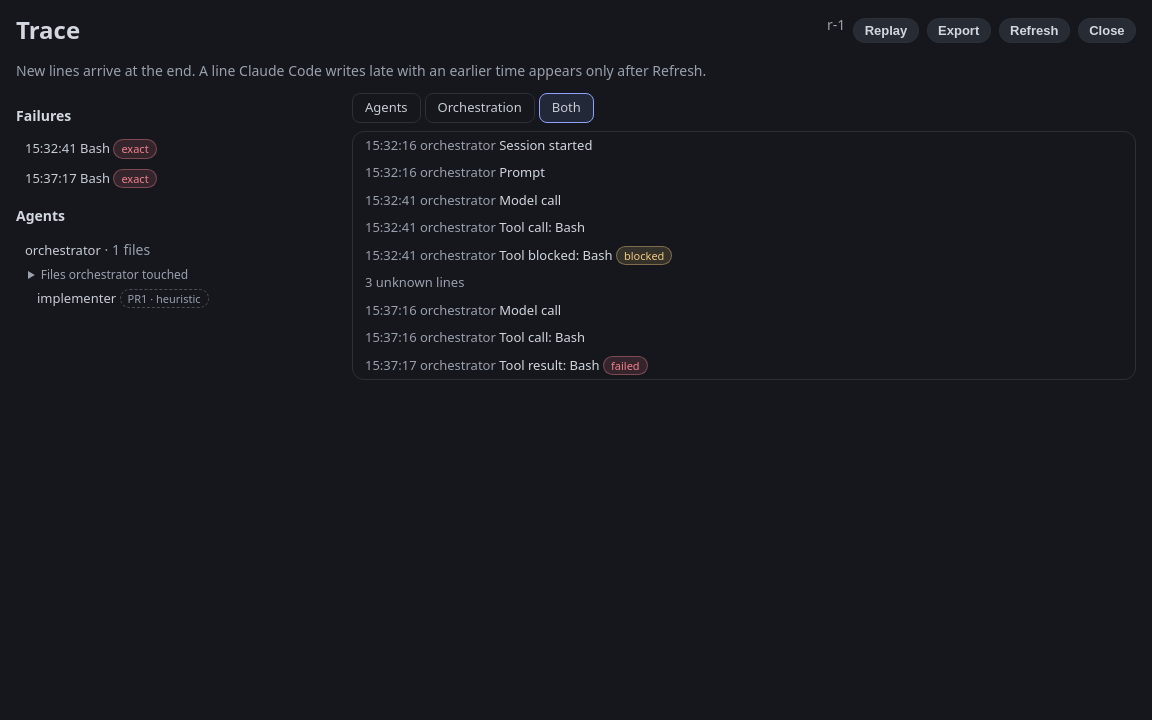
TracePanel replay › steps through every Event with the keys and the Event list follows; Esc leaves
This screenshot has width=1152, height=720.
Expected: the list named "Events" is shown, left=365, top=136, right=672, bottom=375
Click the button "Replay". click: (886,30)
box: left=853, top=18, right=919, bottom=43
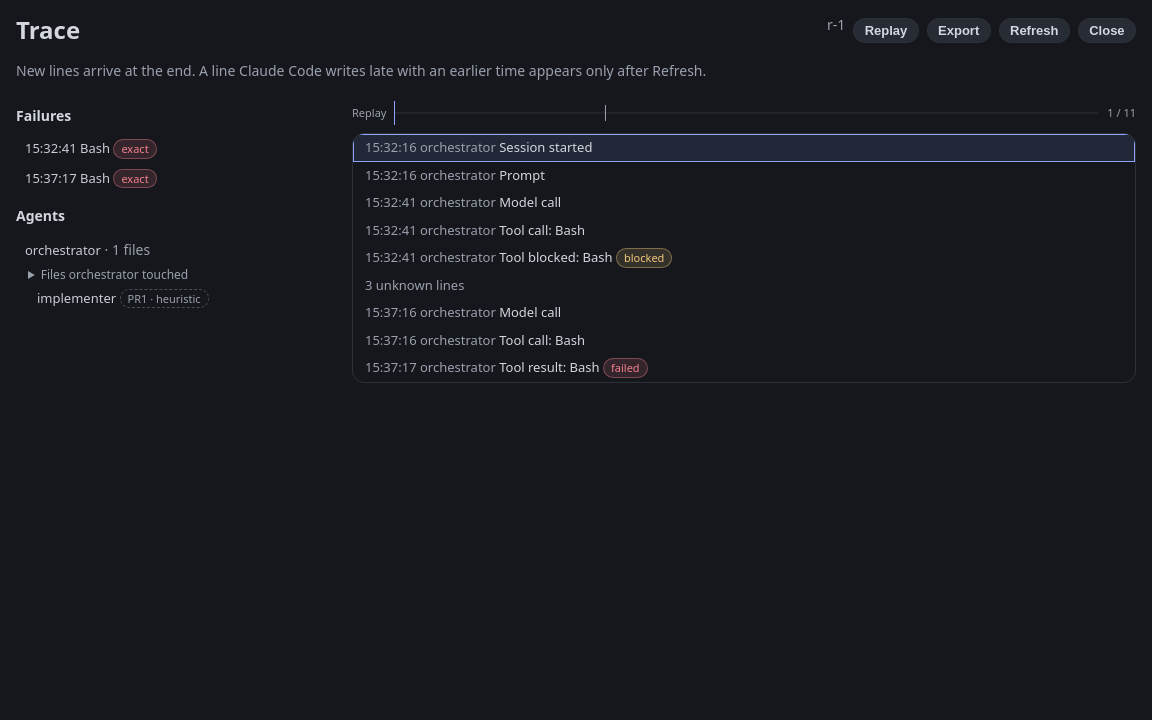
Press ArrowRight in the slider, box left=394, top=101, right=1099, bottom=125
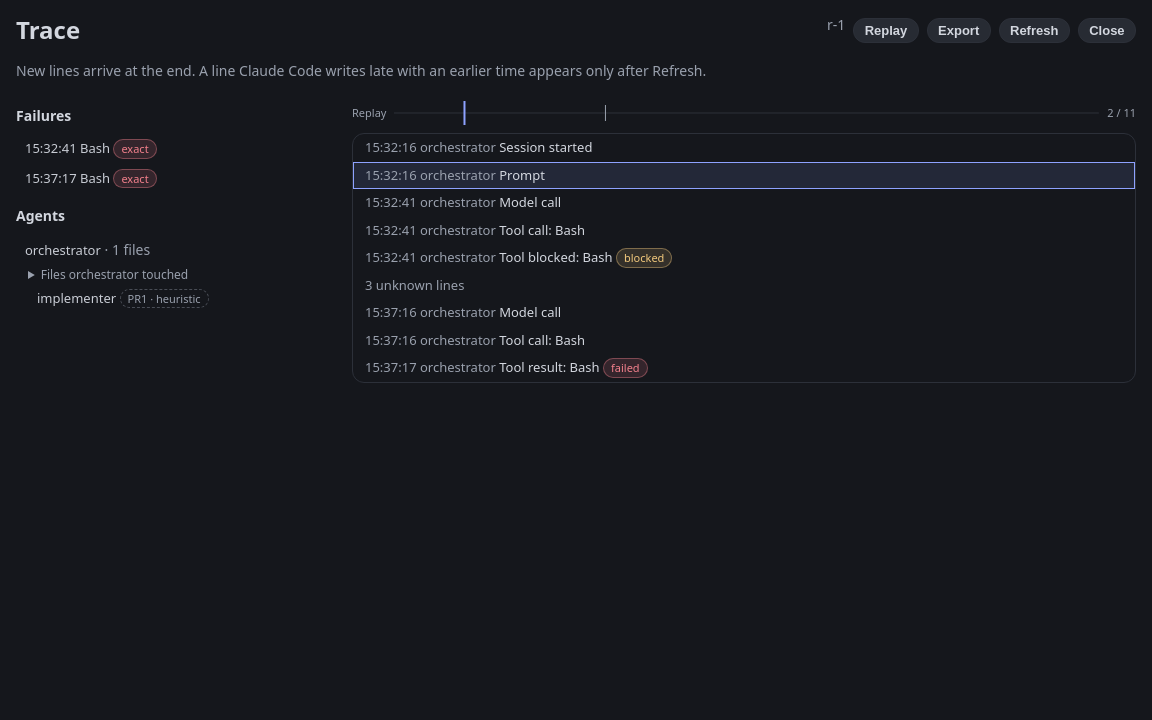
Now the slider has attribute aria-valuenow="1"
Press End in the slider, box left=394, top=101, right=1099, bottom=125
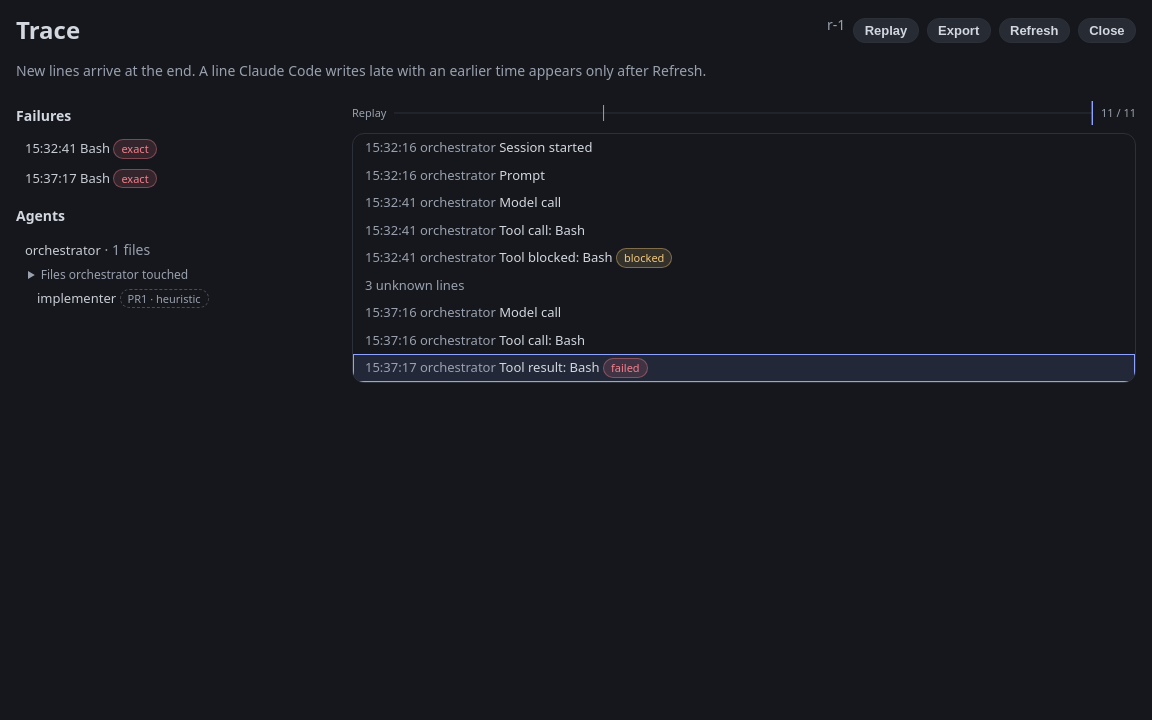
Now the slider has attribute aria-valuenow="10"
Press ArrowRight in the slider, box left=394, top=101, right=1093, bottom=125
Now the slider has attribute aria-valuenow="10"
Press Home in the slider, box left=394, top=101, right=1093, bottom=125
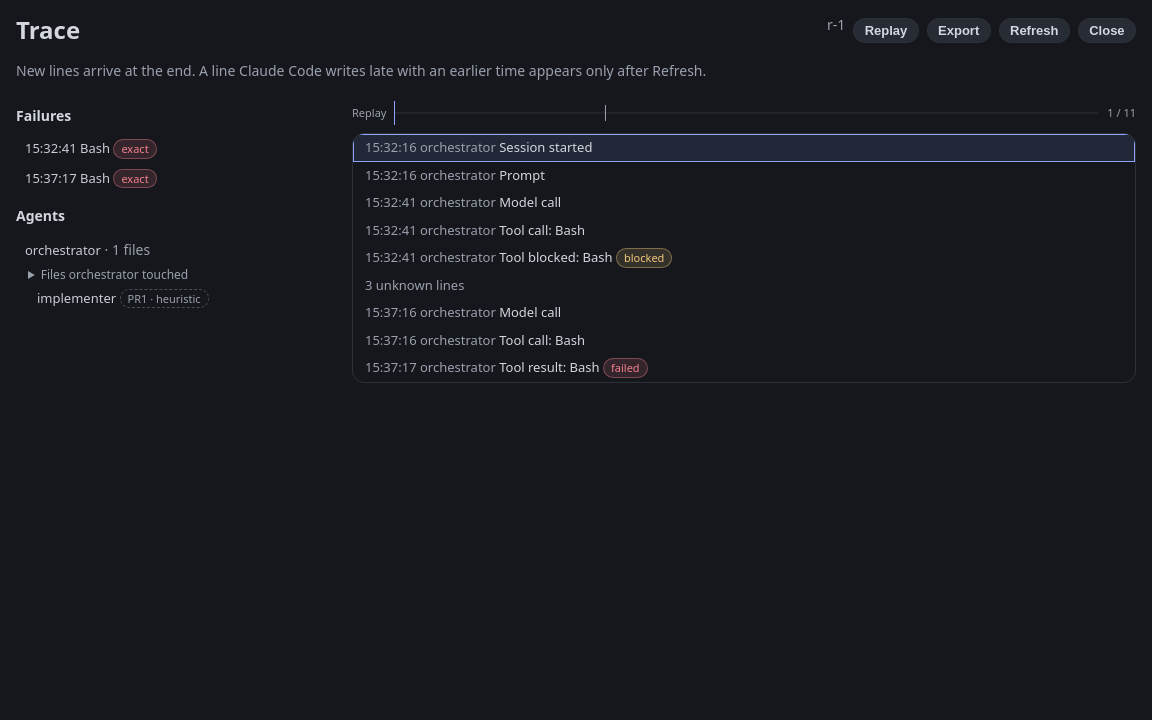
Press Escape in the element "Trace"
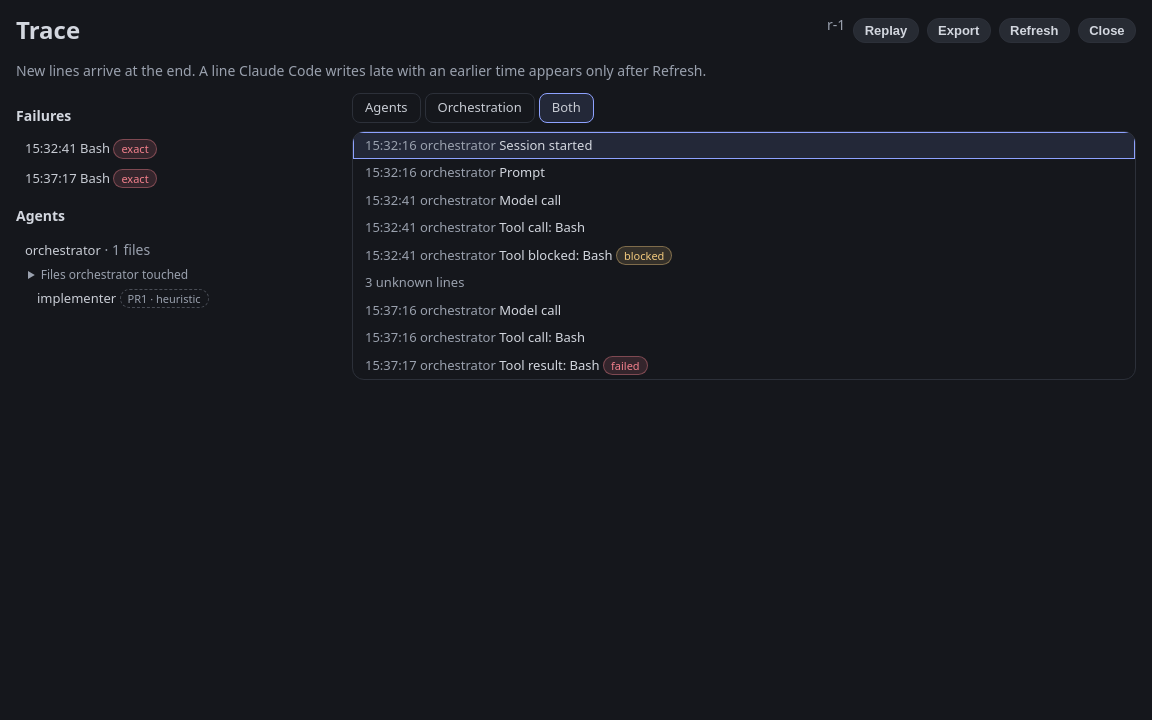
Now the slider is gone
